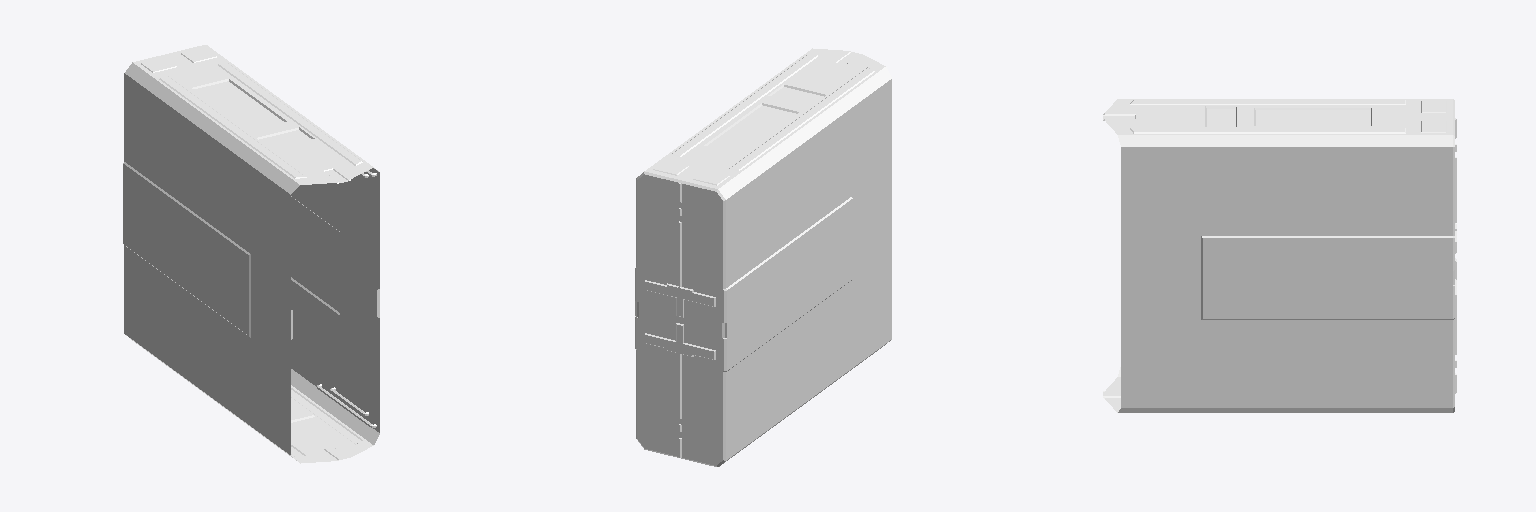
Rendered from oolite_ico_dock.alt.obj.
3 views of the same model, side by side, from view 1: azimuth 30°, elevation 25°; view 2: azimuth 150°, elevation 25°; view 3: azimuth 270°, elevation 25° (orthographic).
Parts seen in each view (by area): view 1: dock_trippled.obj; view 2: dock_trippled.obj; view 3: dock_trippled.obj.
Boxes of the visible parts, x1,y1,x2,y2 form: dock_trippled.obj: [123, 45, 379, 463]; dock_trippled.obj: [635, 48, 891, 466]; dock_trippled.obj: [1103, 99, 1456, 412].
Size of the model in its own units: 82.11 by 239 by 273.